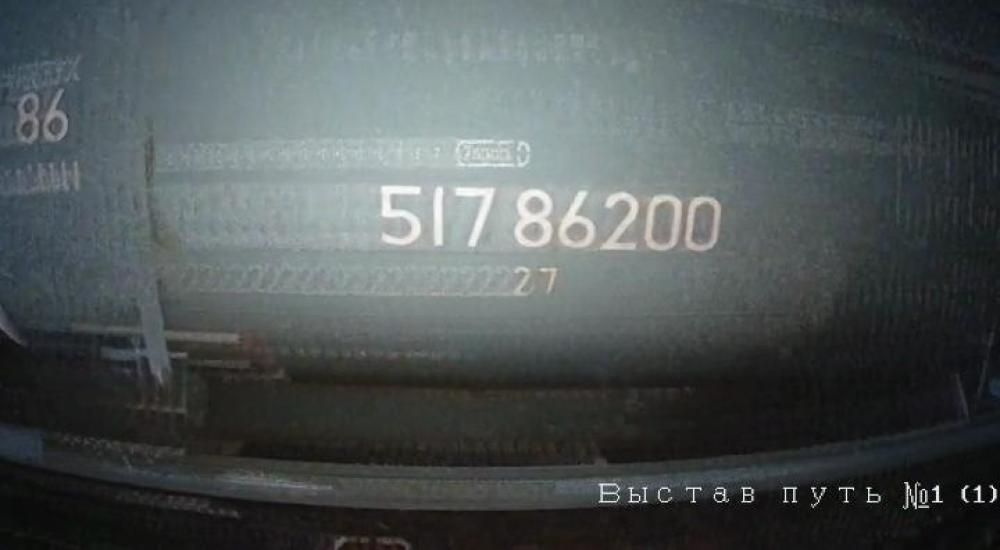Wagon-number: (375, 179, 723, 259)
